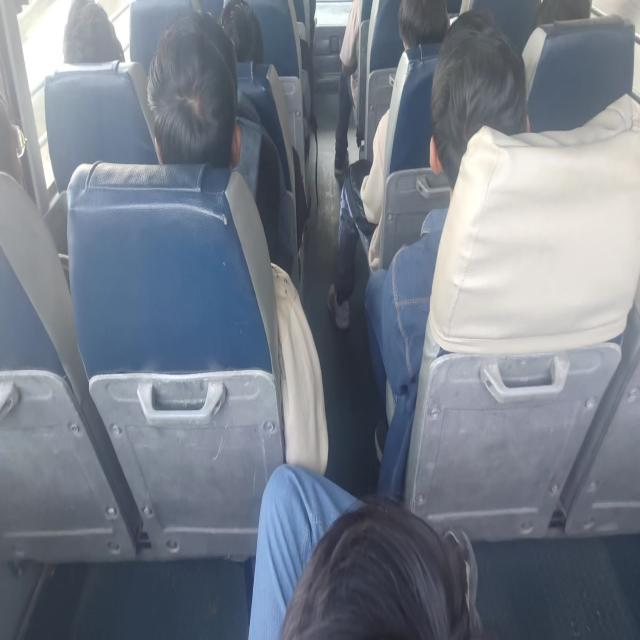person: (146, 9, 328, 475), (364, 12, 530, 500), (146, 10, 298, 283), (248, 462, 482, 638), (326, 0, 450, 329), (146, 10, 242, 168), (333, 0, 362, 177), (62, 0, 125, 64), (219, 0, 263, 62)
